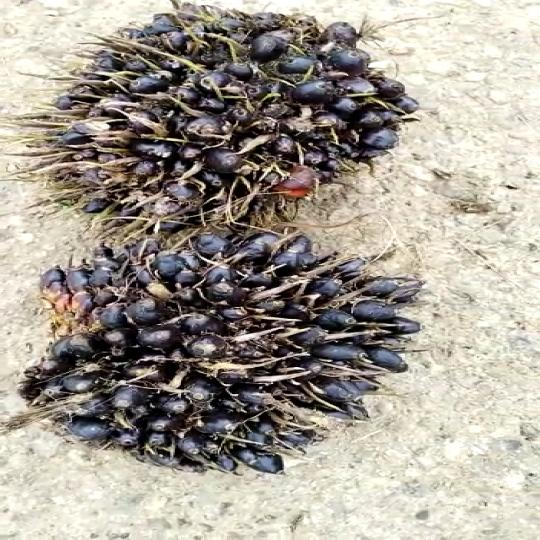mentah: (0, 234, 454, 484), (23, 0, 414, 247)
